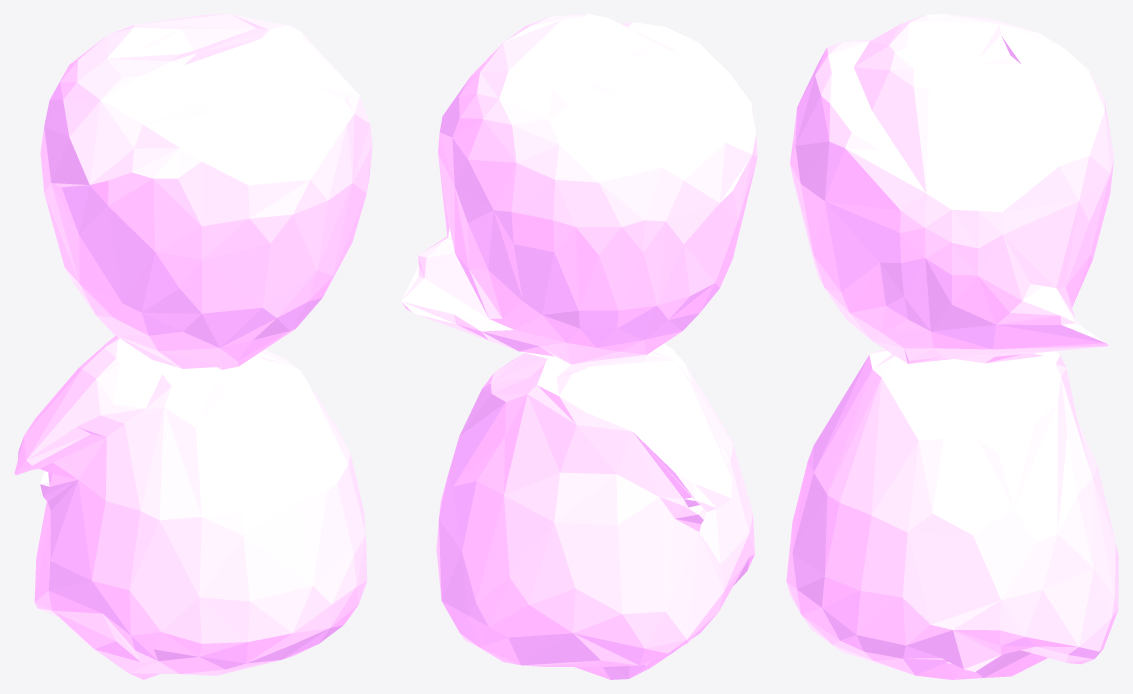
File: neb-etacar.glb
3 views of the same model, side by side, from view 1: azimuth 30°, elevation 25°; view 2: azimuth 150°, elevation 25°; view 3: azimuth 270°, elevation 25° (orthographic). The views are drawn at different scales.
Visible parts, largest first — view 1: Eta Carinae Homunculus Nebula.stl; view 2: Eta Carinae Homunculus Nebula.stl; view 3: Eta Carinae Homunculus Nebula.stl.
Boxes of the visible parts, <box> form: Eta Carinae Homunculus Nebula.stl: <box>14,14,372,679</box>; Eta Carinae Homunculus Nebula.stl: <box>401,14,757,679</box>; Eta Carinae Homunculus Nebula.stl: <box>786,14,1118,679</box>.
Bounding box in the file's own units: 4 × 7.56 × 3.59.
